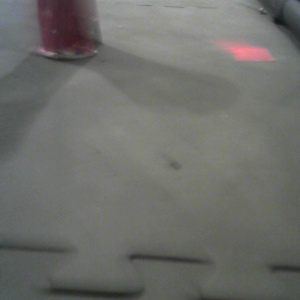Middle: (36, 1, 104, 63)
